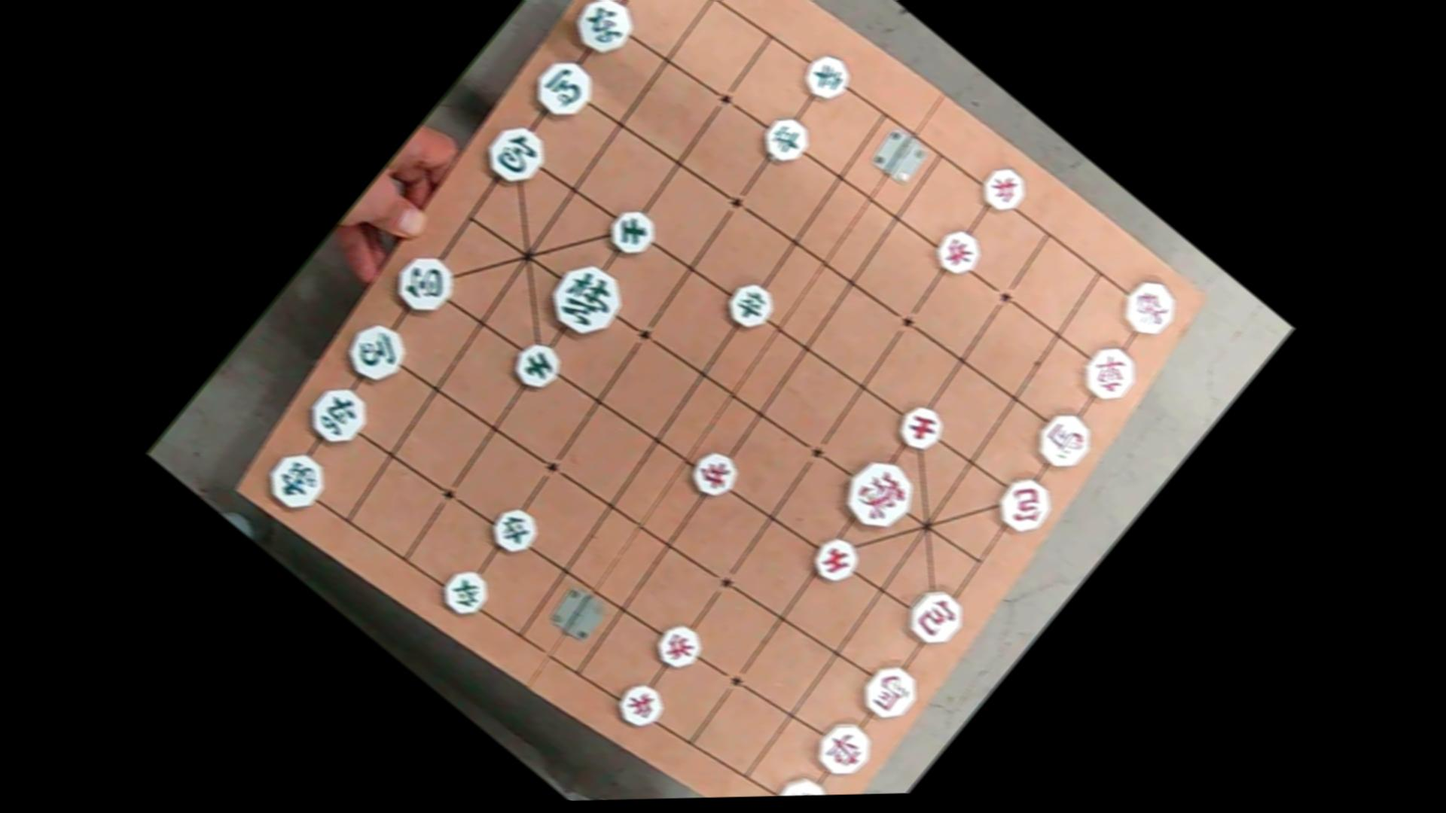cha_green: (300, 378, 377, 455), (566, 0, 642, 62)
cha_red: (805, 710, 883, 789), (1069, 335, 1144, 410)
jol_green: (481, 498, 543, 561), (793, 46, 855, 108), (433, 560, 494, 623), (718, 274, 779, 336), (754, 108, 814, 169)
jol_red: (682, 443, 746, 507), (645, 617, 706, 679), (926, 221, 986, 282), (973, 160, 1033, 219), (611, 674, 669, 732)
ma_green: (335, 315, 411, 391), (525, 51, 599, 126)
ma_red: (1027, 400, 1102, 476), (852, 654, 926, 729)
po_green: (477, 114, 554, 191), (386, 245, 460, 321)
po_red: (898, 580, 972, 655), (987, 466, 1060, 541)
sa_green: (504, 334, 570, 400), (602, 201, 664, 265)
sa_red: (886, 394, 950, 460), (802, 528, 866, 593)
sang_green: (260, 441, 337, 518), (617, 0, 693, 5)
sang_red: (1110, 269, 1185, 345), (762, 763, 840, 796)
wang_green: (541, 252, 634, 346)
wang_red: (829, 449, 922, 542)
